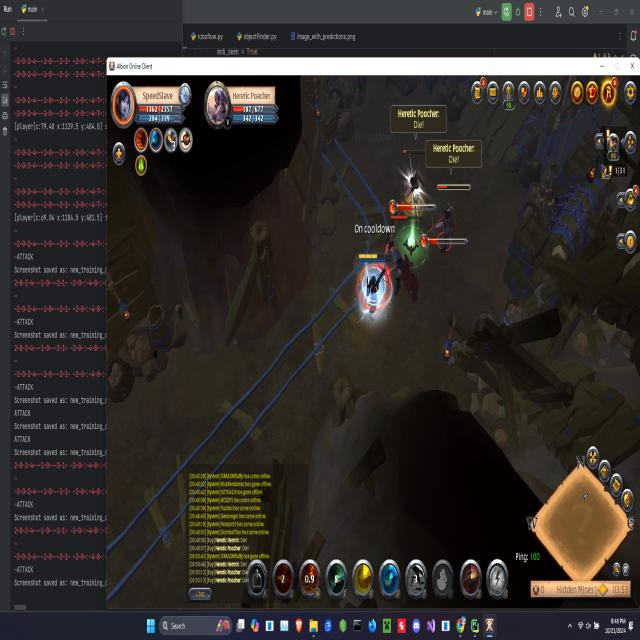ore: (387, 211, 423, 313), (433, 175, 474, 255), (396, 146, 438, 220)
red: (357, 252, 391, 324)
